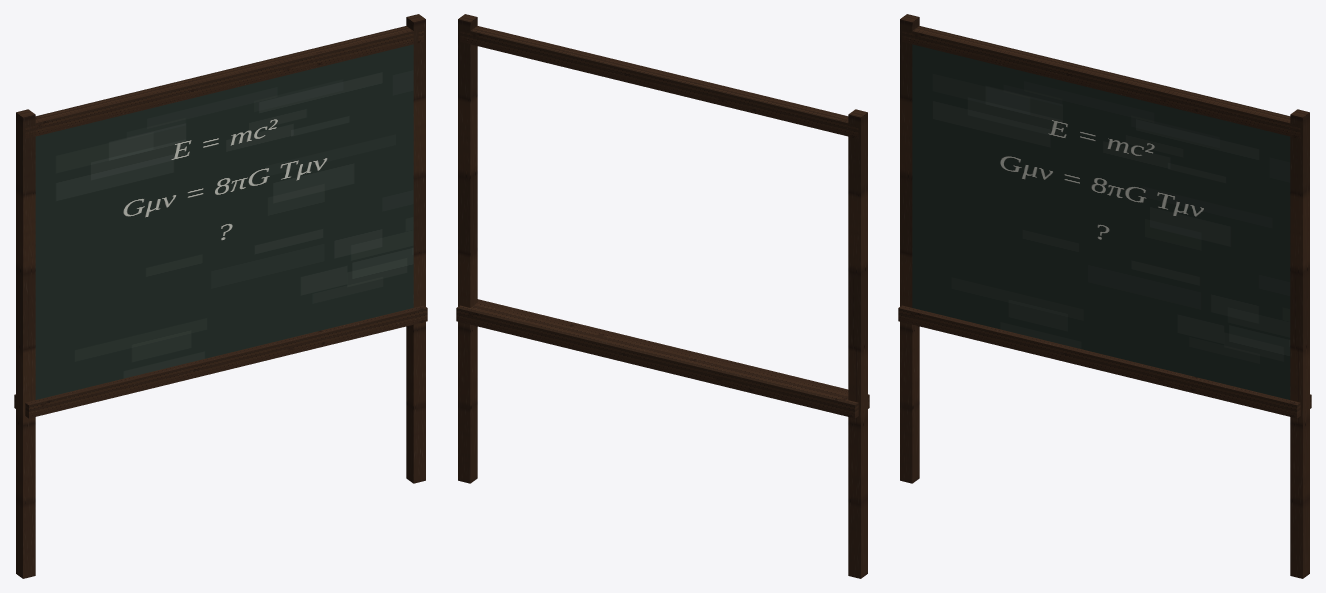
The model's file is chalkboard.glb.
The picture shows the model from 3 angles, left to right: view 1: azimuth 30°, elevation 25°; view 2: azimuth 150°, elevation 25°; view 3: azimuth 330°, elevation 25°; orthographic projection.
Parts seen in each view (by area): view 1: chalkboard; view 2: chalkboard; view 3: chalkboard.
Boxes of the visible parts, left/top/right/bottom form: chalkboard: left=14, top=14, right=427, bottom=578; chalkboard: left=456, top=14, right=869, bottom=578; chalkboard: left=898, top=14, right=1311, bottom=578.
Size of the model in its own units: 1.92 by 2.1 by 0.12.
Materials: 5 (5 with a texture image).
